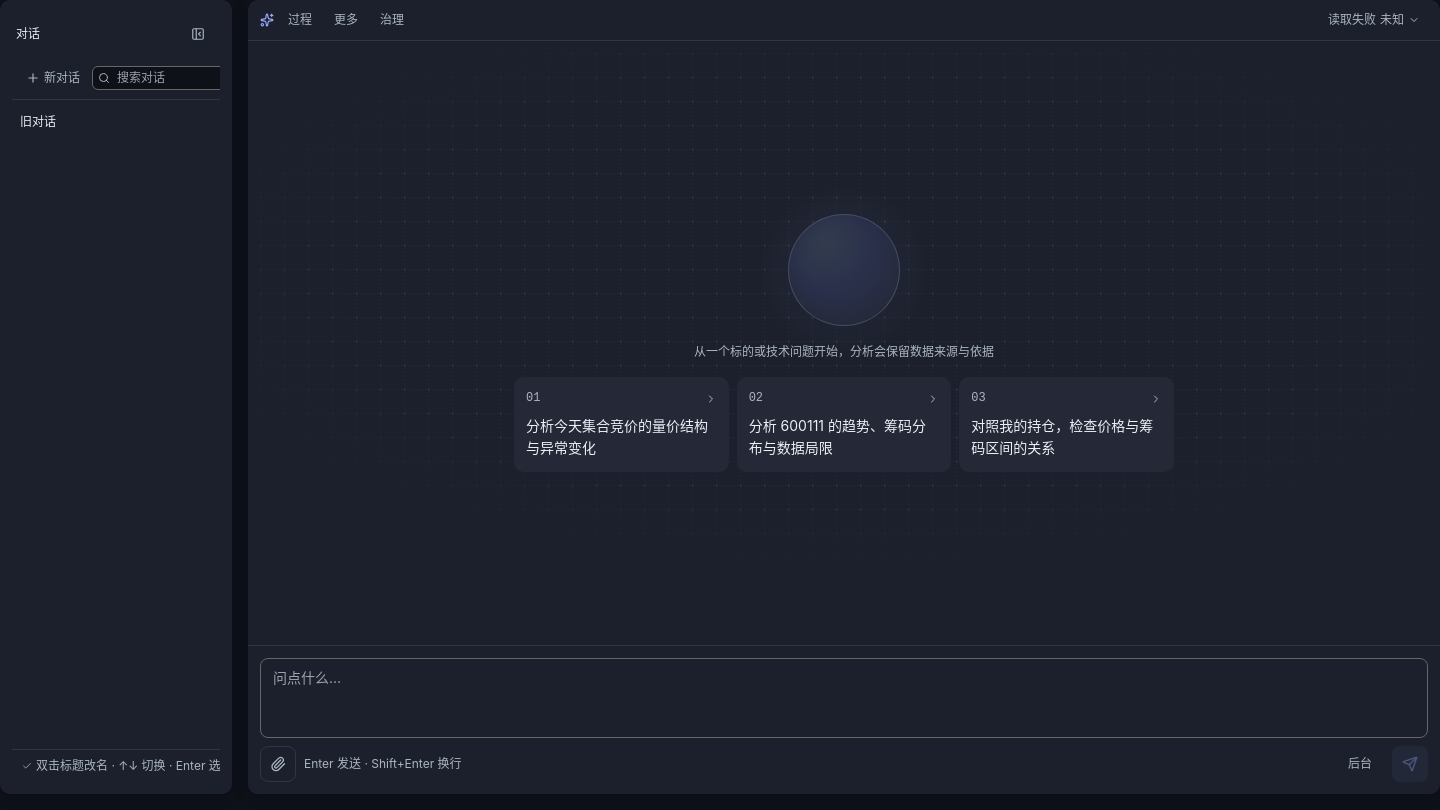
旧流的收尾不得污染新会话 / 新流 › 切走后旧流失败：错误只属于它自己那一轮，新会话里不留别人的错误条
Expected: the button named "发送" is shown, [1392,746,1428,782]
Type "600111 怎么看" into the text box with placeholder "问点什么…" at (844, 698), box [260,658,1428,738]
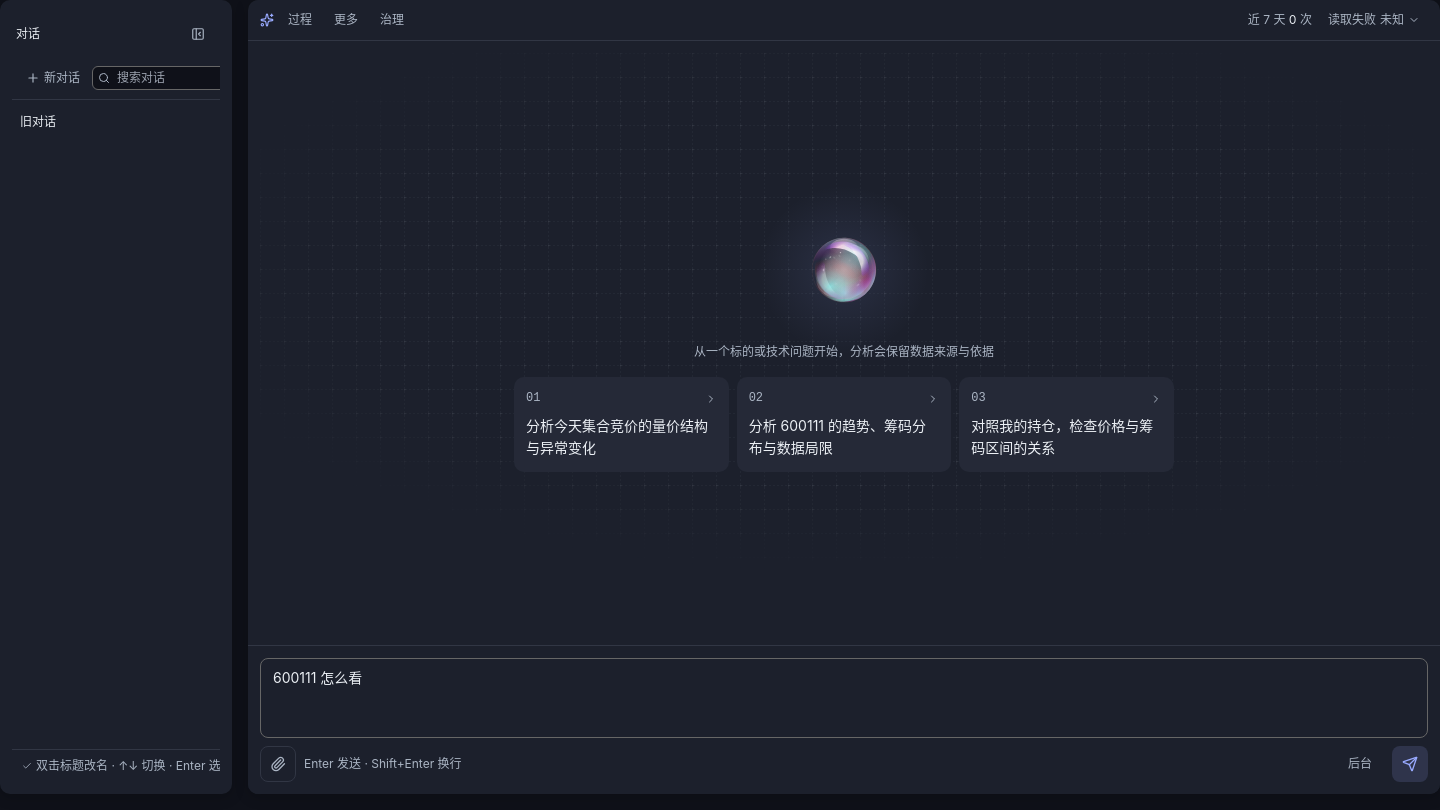
Click the button named "发送" at (1410, 764), box [1392,746,1428,782]
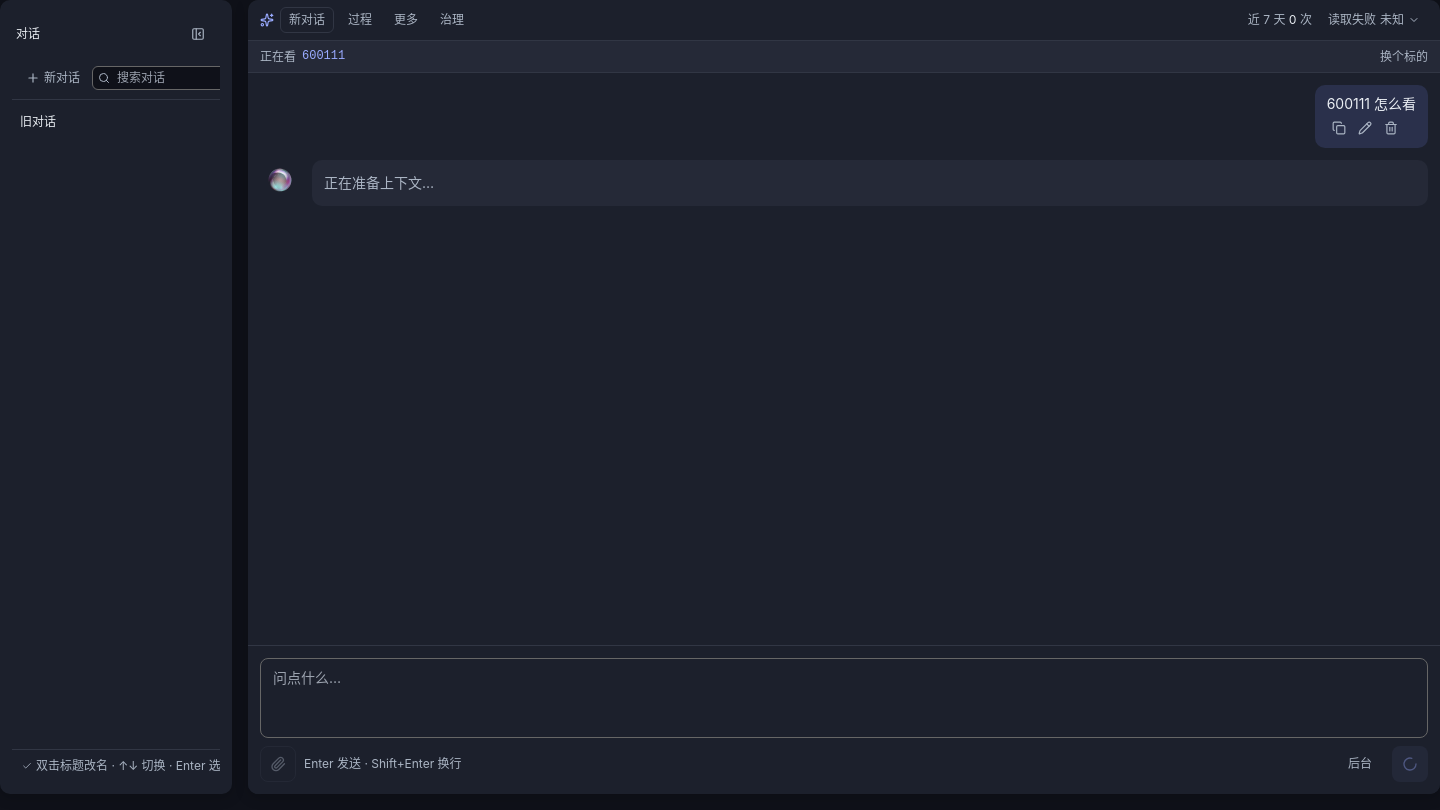
Click the button with test id "copilot-conv-title-9" at (126, 121), box [20,112,233,131]
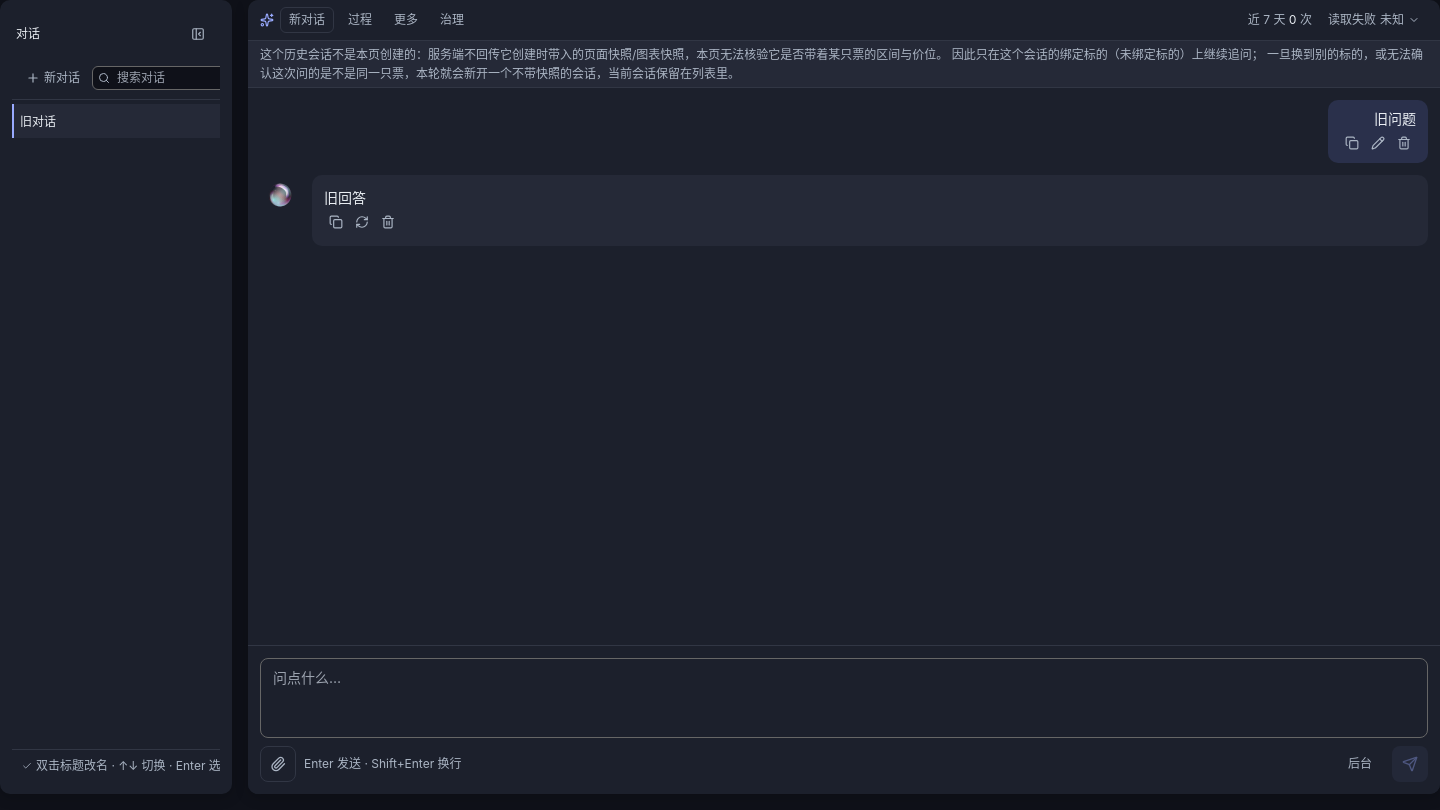
Now the text "旧回答" is shown, box [324,189,366,206]
